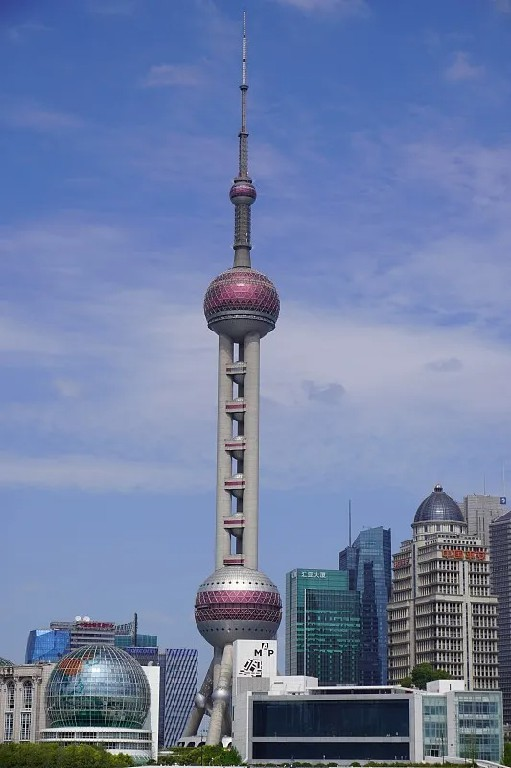Oriental: (181, 11, 283, 741)
